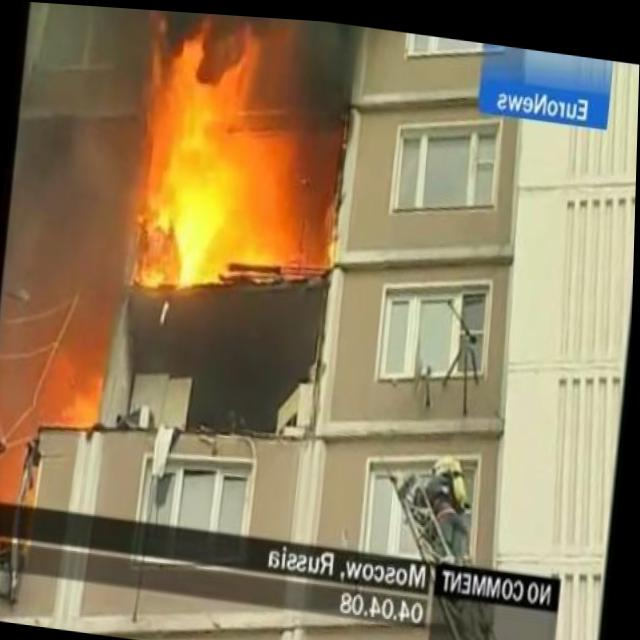fire: (117, 6, 329, 299), (46, 376, 103, 427)
